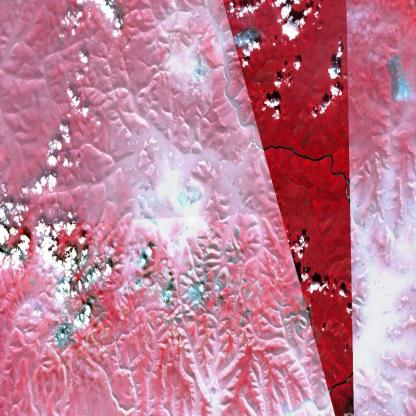fire: (226, 24, 262, 52)
